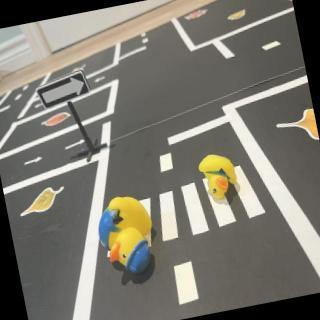duck_regular: (198, 149, 243, 203)
duck_specialty: (94, 190, 162, 278)
road_crosswalk: (136, 160, 271, 249)
road_oneway: (62, 139, 88, 153), (21, 155, 45, 169), (94, 76, 109, 85), (33, 100, 45, 110)
sign_oneway_right: (35, 67, 94, 111)
